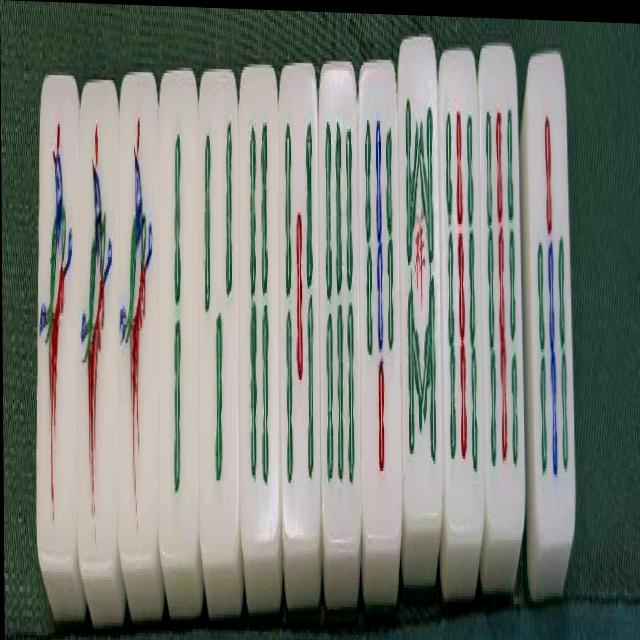1B: (79, 94, 115, 577), (119, 96, 157, 529), (39, 93, 75, 544)
2B: (159, 106, 196, 540)
3B: (198, 99, 239, 527)
4B: (241, 74, 273, 505)
5B: (281, 84, 318, 509)
6B: (321, 95, 358, 500)
7B: (361, 70, 398, 526), (532, 67, 569, 501)
8B: (402, 76, 439, 509)
9B: (481, 61, 521, 517), (443, 90, 479, 488)
